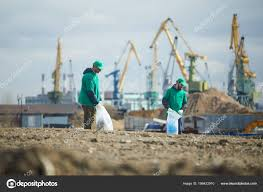helmet: (93, 59, 102, 69), (175, 76, 186, 84)
